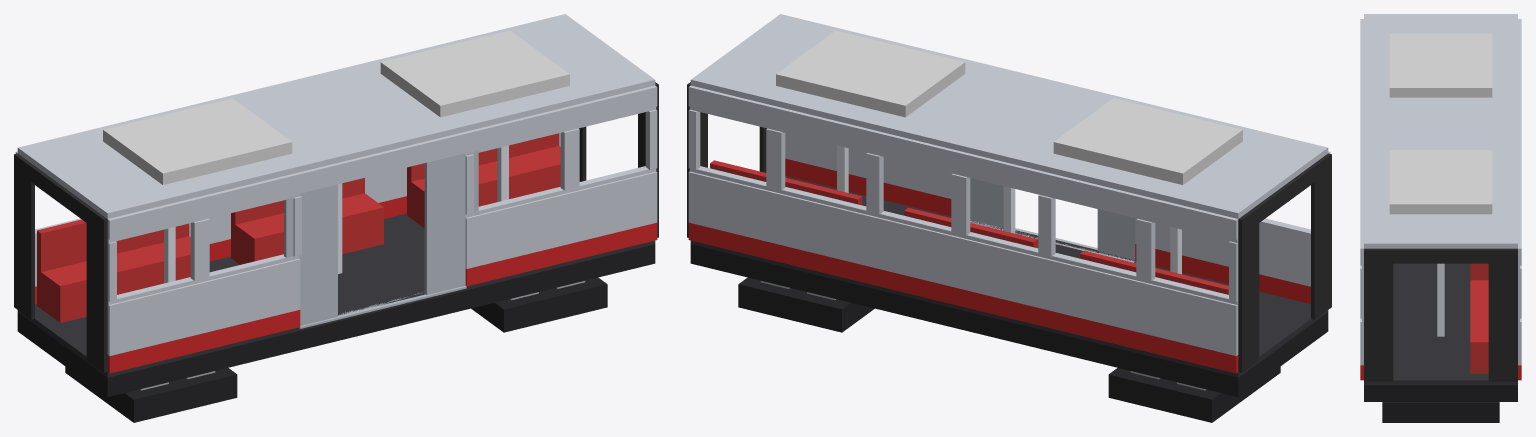
The model's file is metro_wagon_half_l3.obj.
3 renders of one model, left to right at view 1: azimuth 30°, elevation 25°; view 2: azimuth 150°, elevation 25°; view 3: azimuth 270°, elevation 25°, orthographic. The views are drawn at different scales.
Bounding box in the file's own units: 3 × 1.26 × 0.88.
